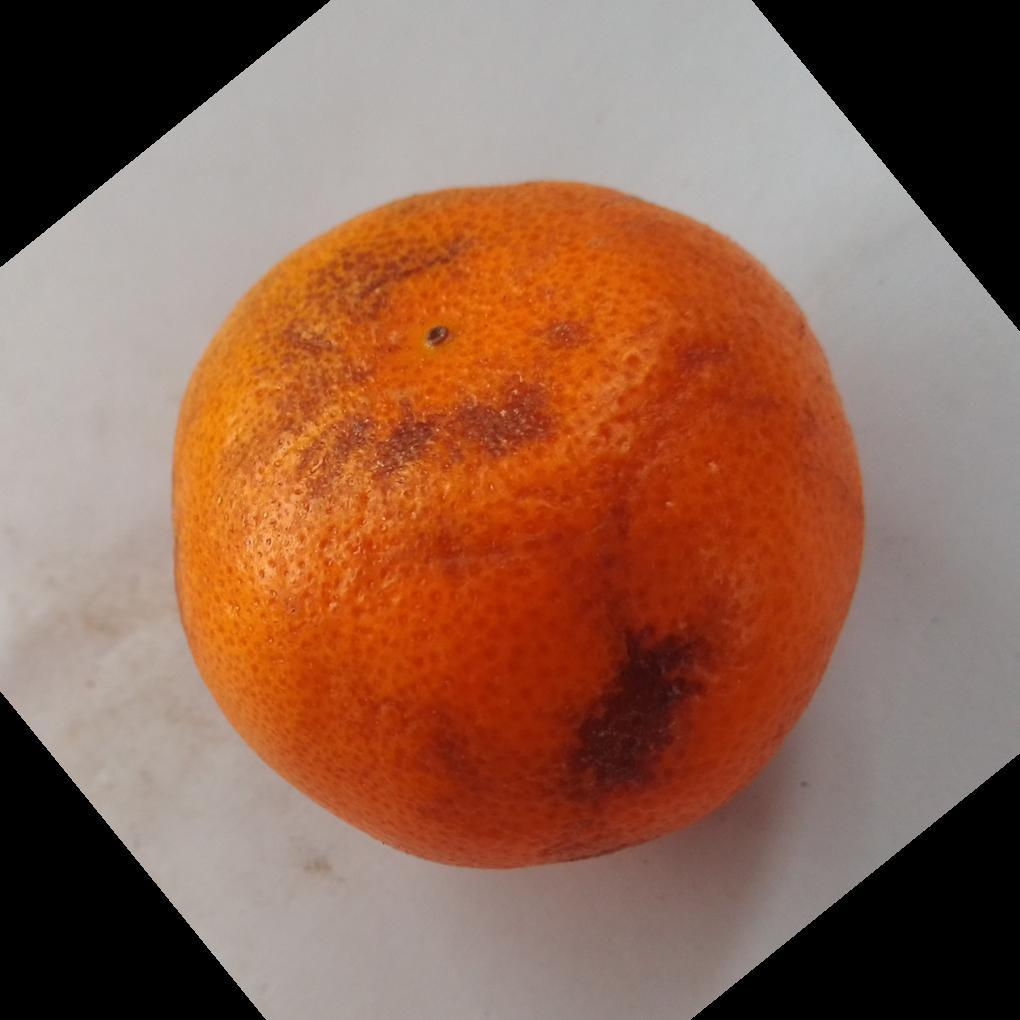FreshOrange: (170, 182, 868, 875)
